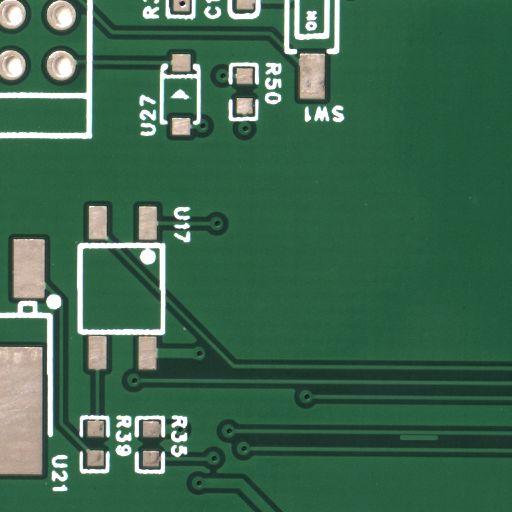Spurious_copper: (418, 437, 463, 444)
